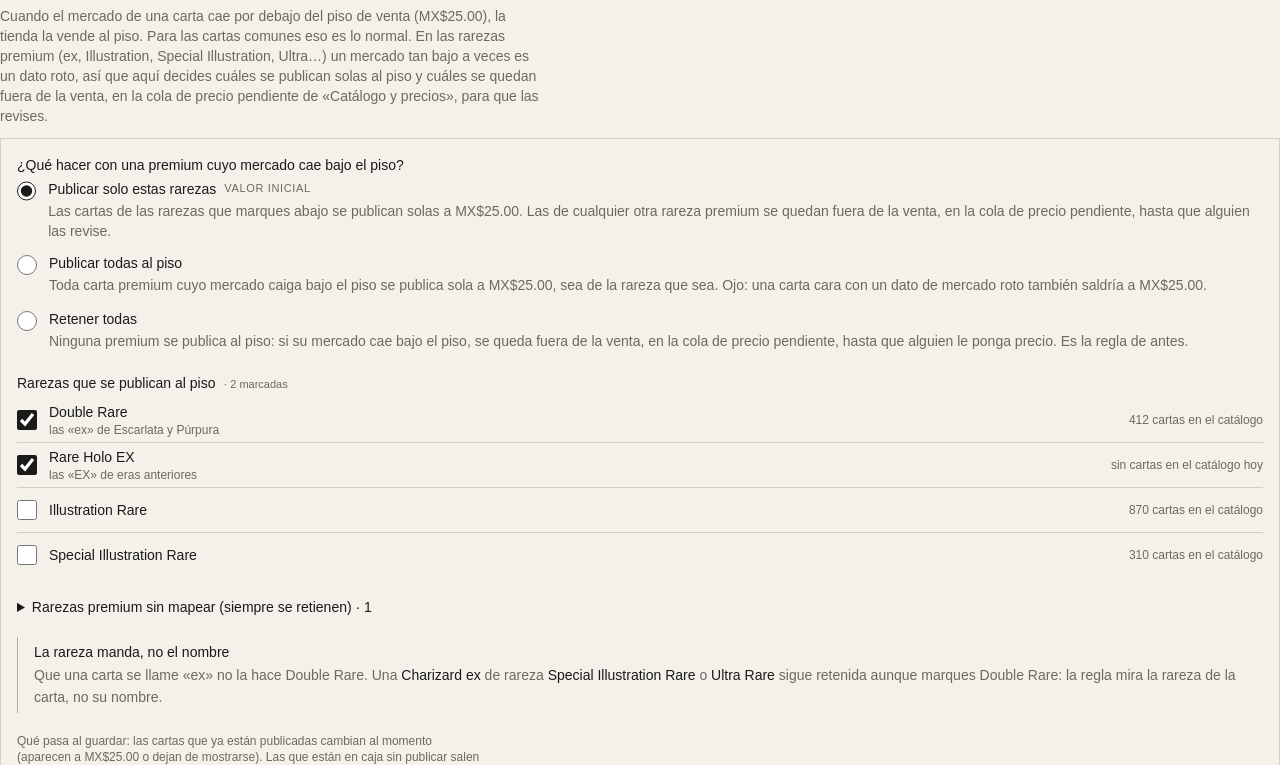
Test: §39.1 · premium en el piso (venta) › PF-UI-1 · con `only` y 0 marcadas: «Guardar» deshabilitado y el error visible
Click the checkbox with test id "premium-floor-rarity-Double Rare".
click(27, 420)  # box [17,410,37,430]
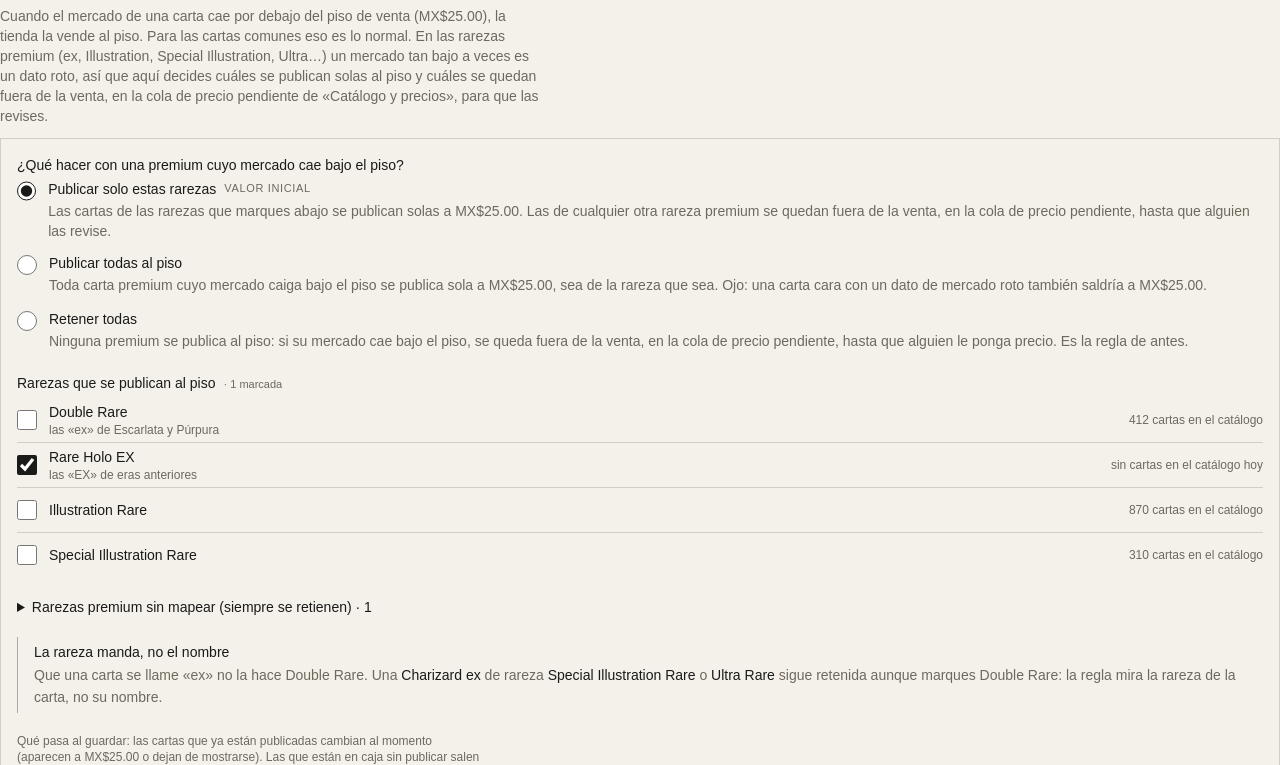
Click the checkbox with test id "premium-floor-rarity-Rare Holo EX".
click(27, 465)  # box [17,455,37,475]
(page scrolled)
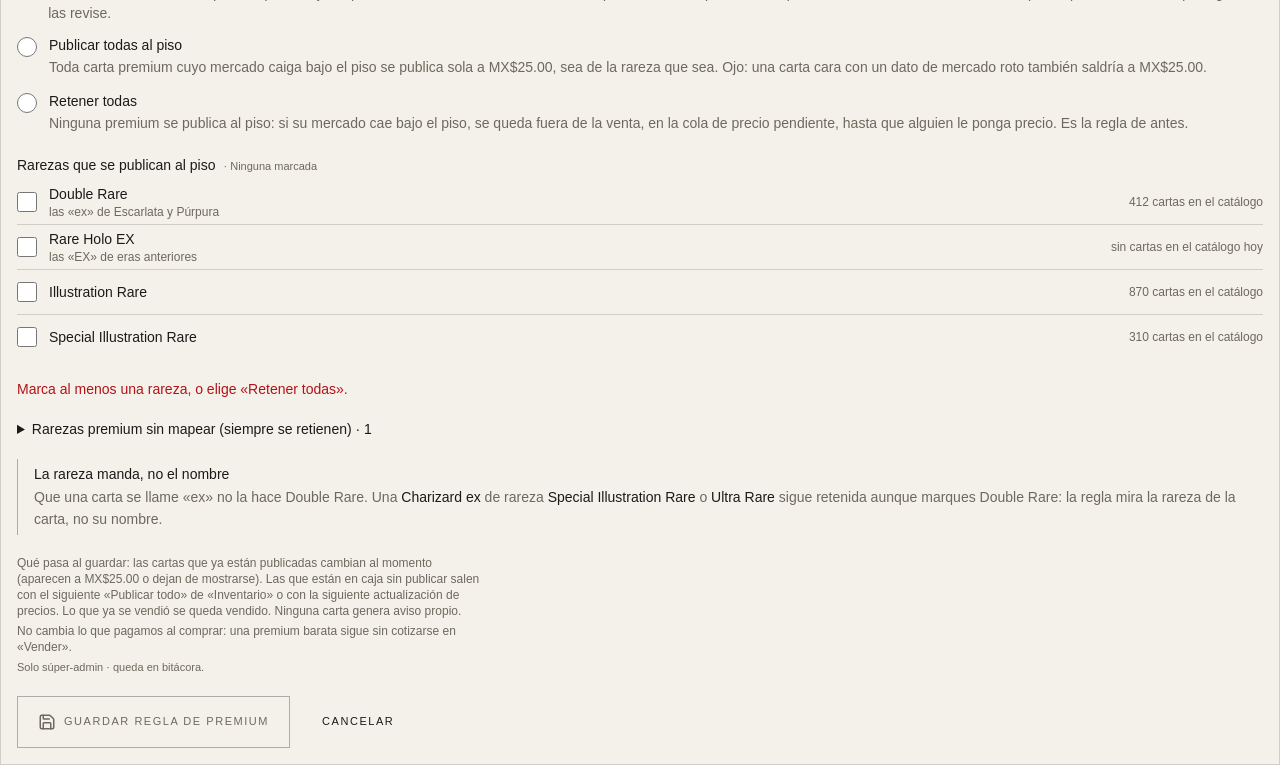
Expected: the text "Marca al menos una rareza, o elige «Retener todas»." is shown, [17,381,348,397]
Expected: the button "Guardar regla de premium" is disabled, [17,696,290,748]
